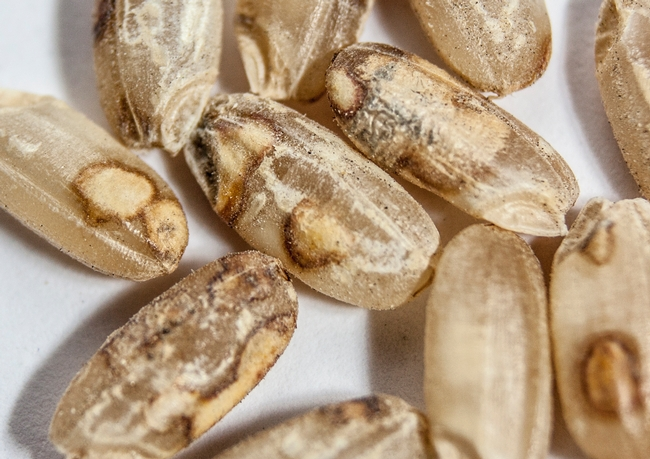damaged_tomato: (1, 1, 649, 459)
